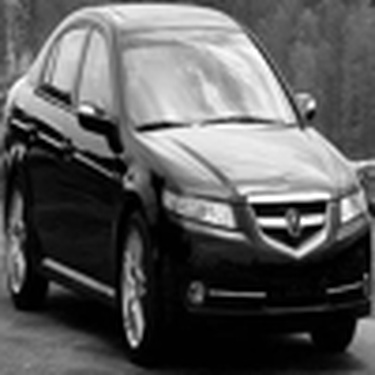car: (1, 4, 371, 371)
